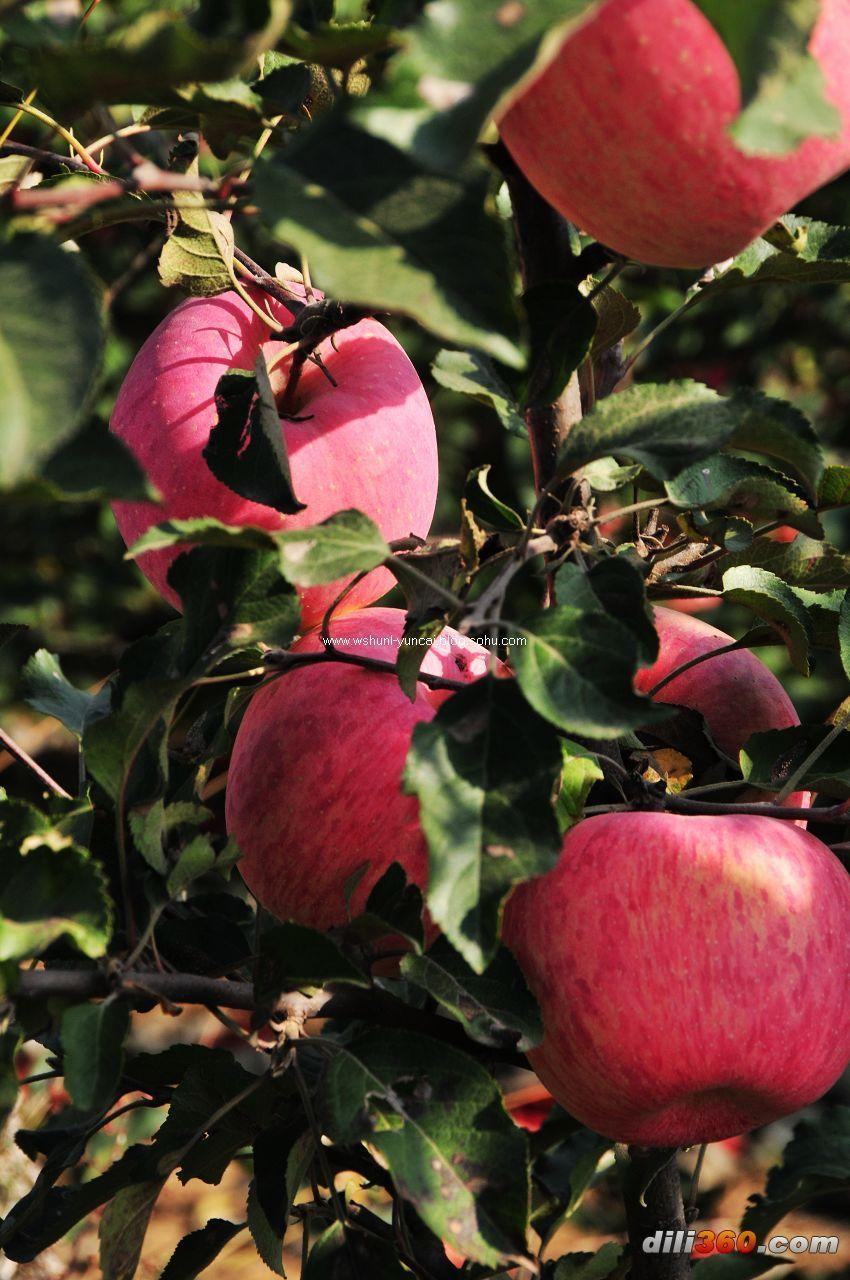apple: (499, 786, 850, 1121), (100, 270, 440, 598), (227, 604, 520, 937), (494, 5, 847, 280)
